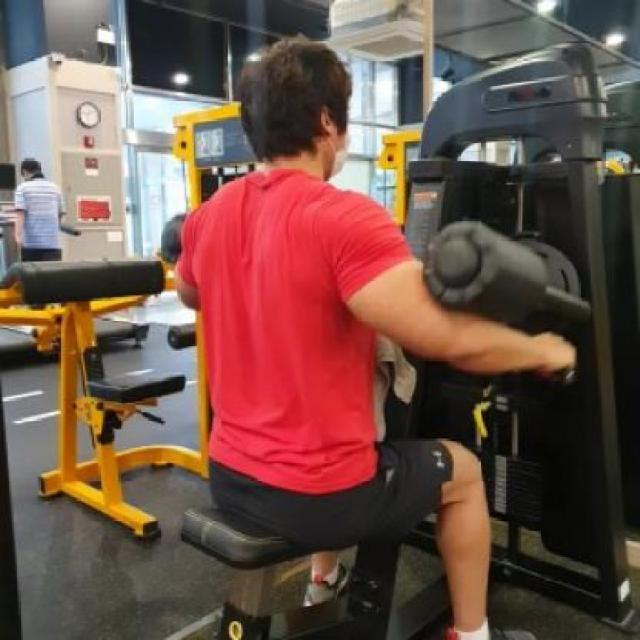lateral raises machine: (160, 207, 640, 640)
